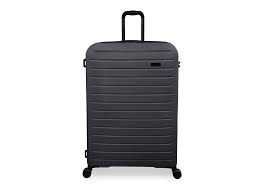suitcase: (80, 9, 181, 179)
